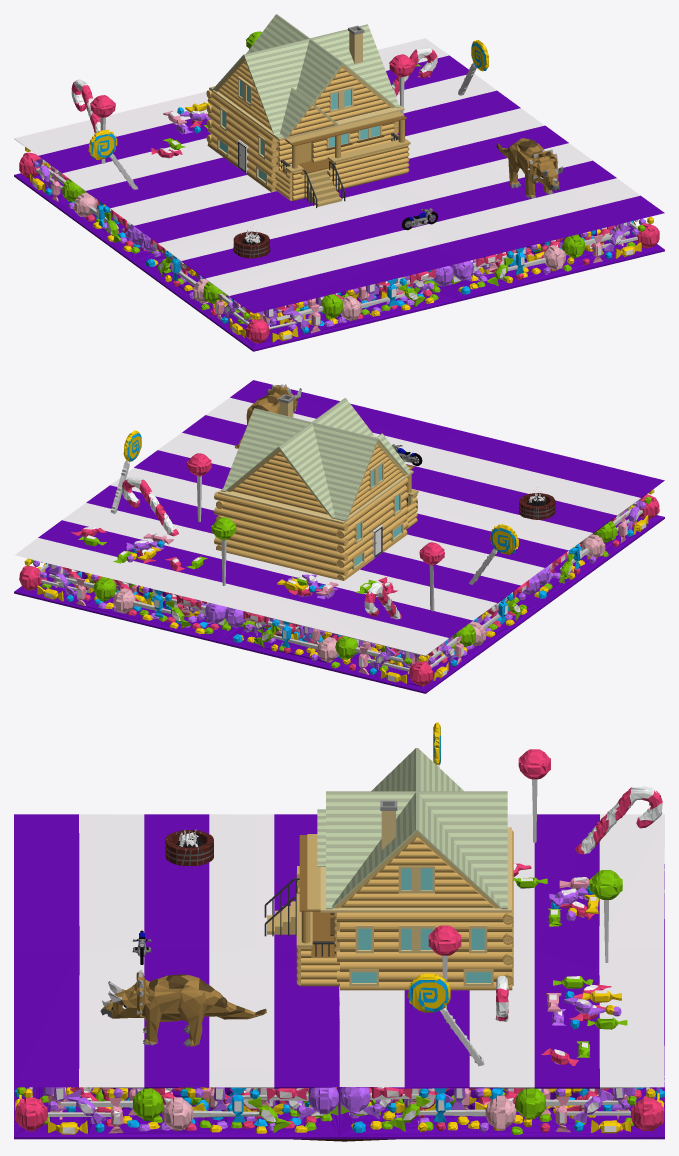
3 renders of one model, top to bottom at view 1: azimuth 30°, elevation 25°; view 2: azimuth 150°, elevation 25°; view 3: azimuth 270°, elevation 25°, orthographic. The views are drawn at different scales.
Parts seen in each view (by area): view 1: TERRAIN_CANDY, Cube.1516, ANIMAL_Triceratops, OBJRANDOM_CAMPFIRE; view 2: TERRAIN_CANDY, Cube.1516, OBJRANDOM_CAMPFIRE, ANIMAL_Triceratops; view 3: TERRAIN_CANDY, Cube.1516, ANIMAL_Triceratops, OBJRANDOM_CAMPFIRE.
Boxes of the visible parts, x1,y1,x2,y2 form: TERRAIN_CANDY: (14,31,664,351); Cube.1516: (206,14,410,207); ANIMAL_Triceratops: (496,138,563,198); OBJRANDOM_CAMPFIRE: (233,230,270,258); TERRAIN_CANDY: (14,380,664,693); Cube.1516: (214,394,418,580); OBJRANDOM_CAMPFIRE: (519,492,555,519); ANIMAL_Triceratops: (235,384,301,448); TERRAIN_CANDY: (14,722,664,1139); Cube.1516: (264,748,513,990); ANIMAL_Triceratops: (100,969,266,1046); OBJRANDOM_CAMPFIRE: (165,827,213,865).
Bounding box in the file's own units: 4059 × 1650 × 4000.
Materials: 33 (3 with a texture image).
